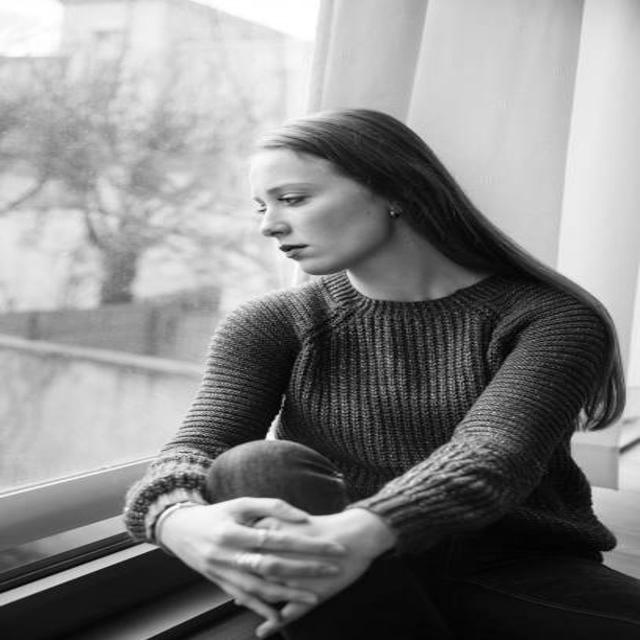Sadness: (247, 147, 390, 278)
